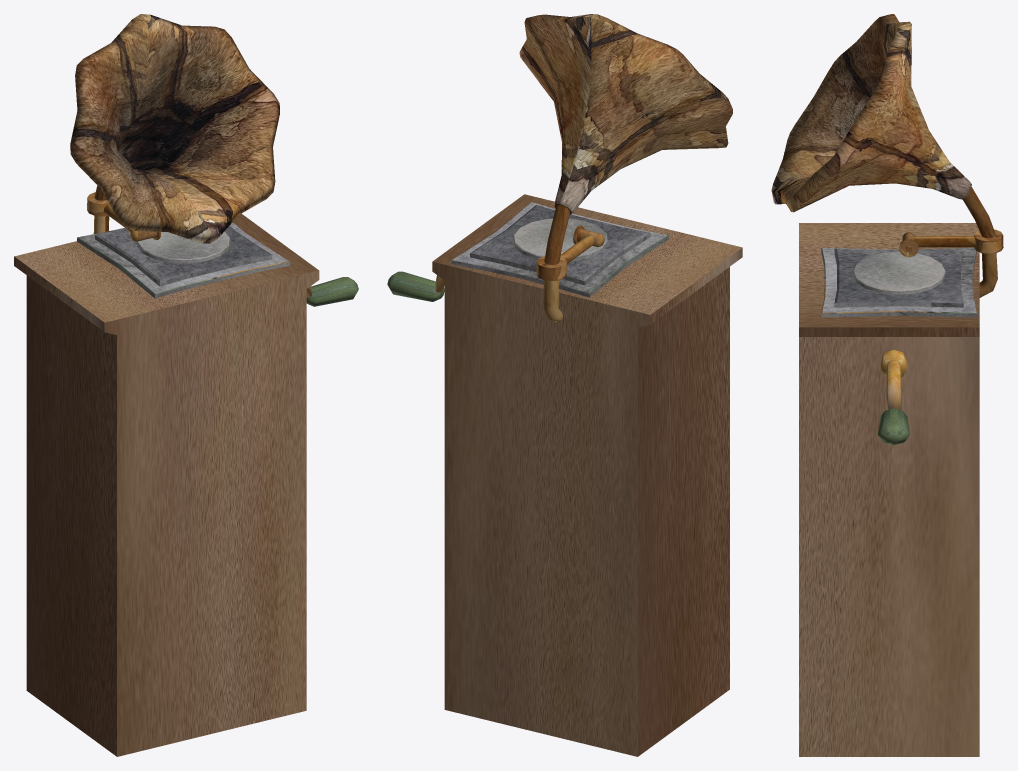
Rendered from fonografo.fbx.
3 views of the same model, side by side, from view 1: azimuth 30°, elevation 25°; view 2: azimuth 150°, elevation 25°; view 3: azimuth 270°, elevation 25° (orthographic). The views are drawn at different scales.
Visible parts, largest first — view 1: Cube, Model_Phonograph, part1_texture1.005_part1_texture1.009; view 2: Cube, Model_Phonograph, part1_texture1.005_part1_texture1.009; view 3: Cube, Model_Phonograph, part1_texture1.005_part1_texture1.009.
Part boxes in pixels (x1,y1,x2,y2): Cube: (14,213,319,756); Model_Phonograph: (70,14,290,298); part1_texture1.005_part1_texture1.009: (306,277,358,306); Cube: (432,194,742,756); Model_Phonograph: (451,14,732,322); part1_texture1.005_part1_texture1.009: (387,271,444,301); Cube: (799,223,979,756); Model_Phonograph: (771,14,1003,317); part1_texture1.005_part1_texture1.009: (877,350,909,445).
Bounding box in the file's own units: 155 × 324 × 100.
Materials: 5 (5 with a texture image).
